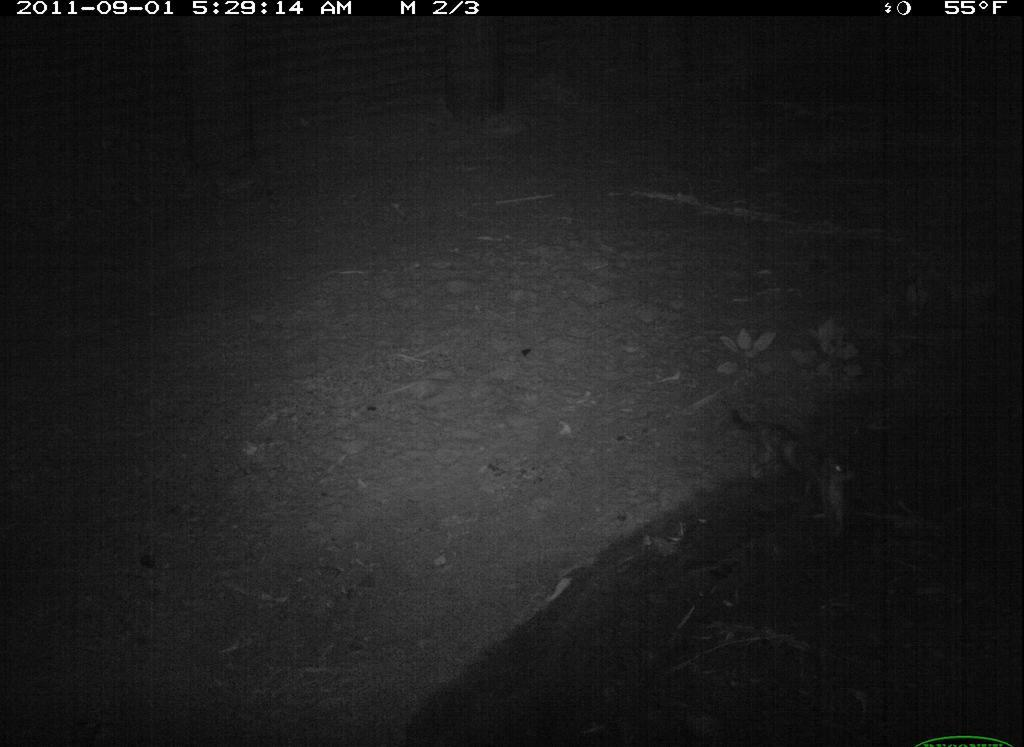cat: (712, 393, 859, 533)
